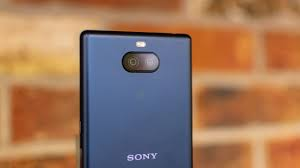sony: (76, 26, 195, 168)
